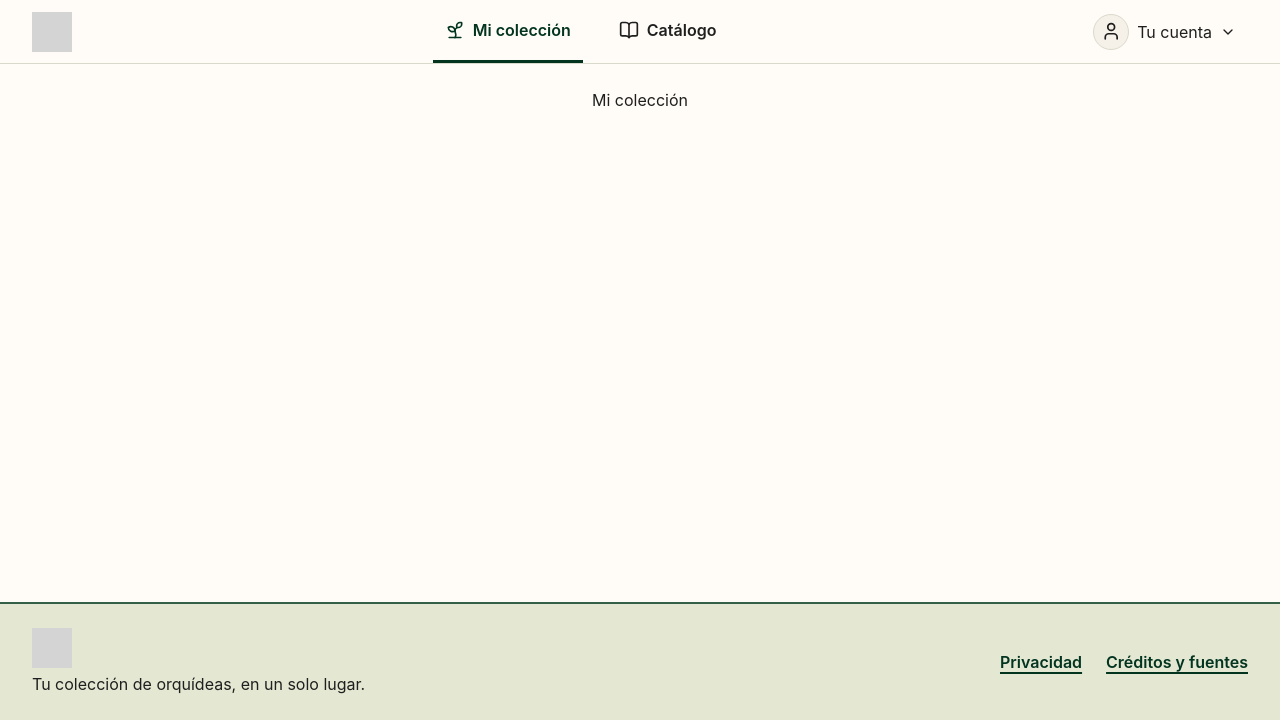
Test: barra de AppShell › sin nombre: icono user en el avatar y el correo en el menú
Click the button "Tu cuenta": point(1169, 32) [1089,8,1248,56]
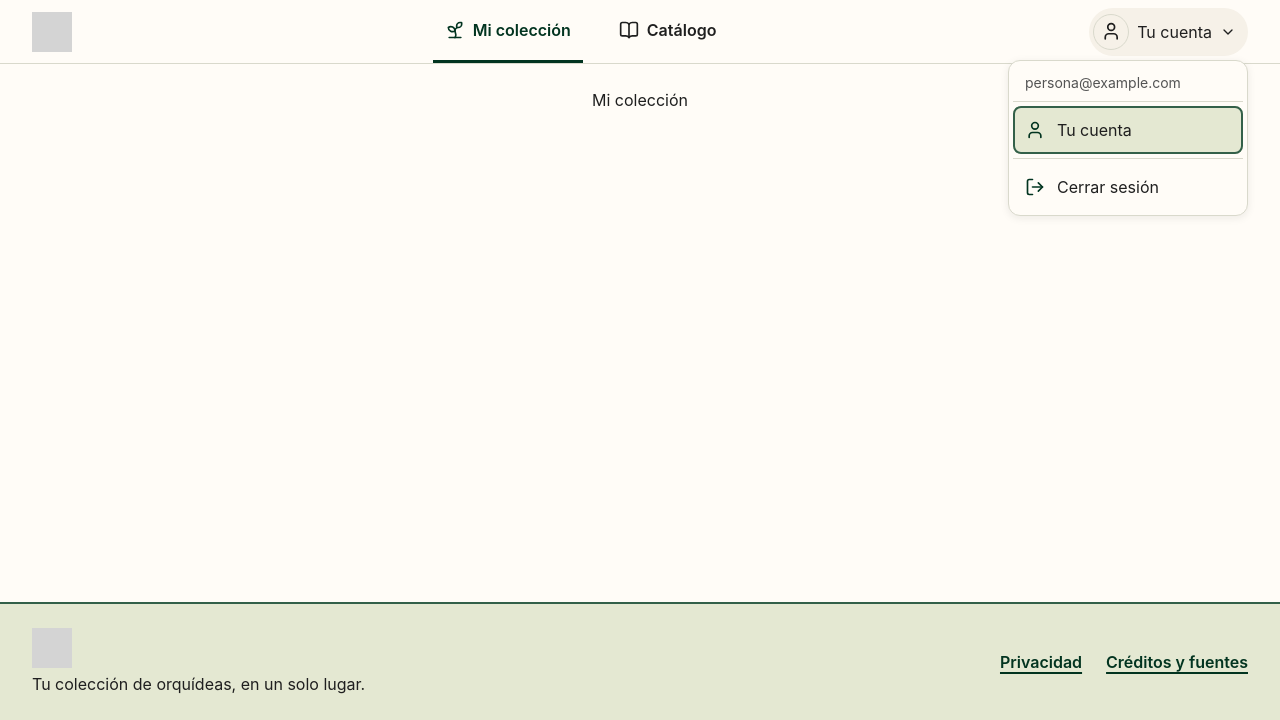
Now the text "persona@example.com" is shown, box [1013,64,1243,102]
